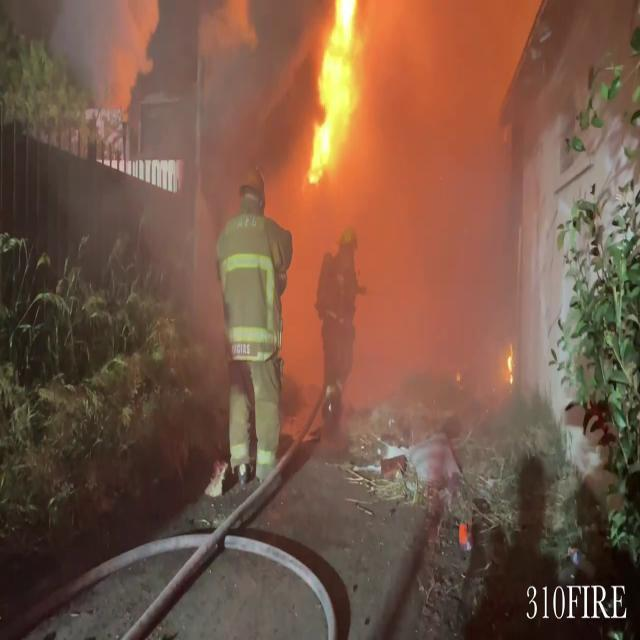Fire: (302, 0, 370, 188)
